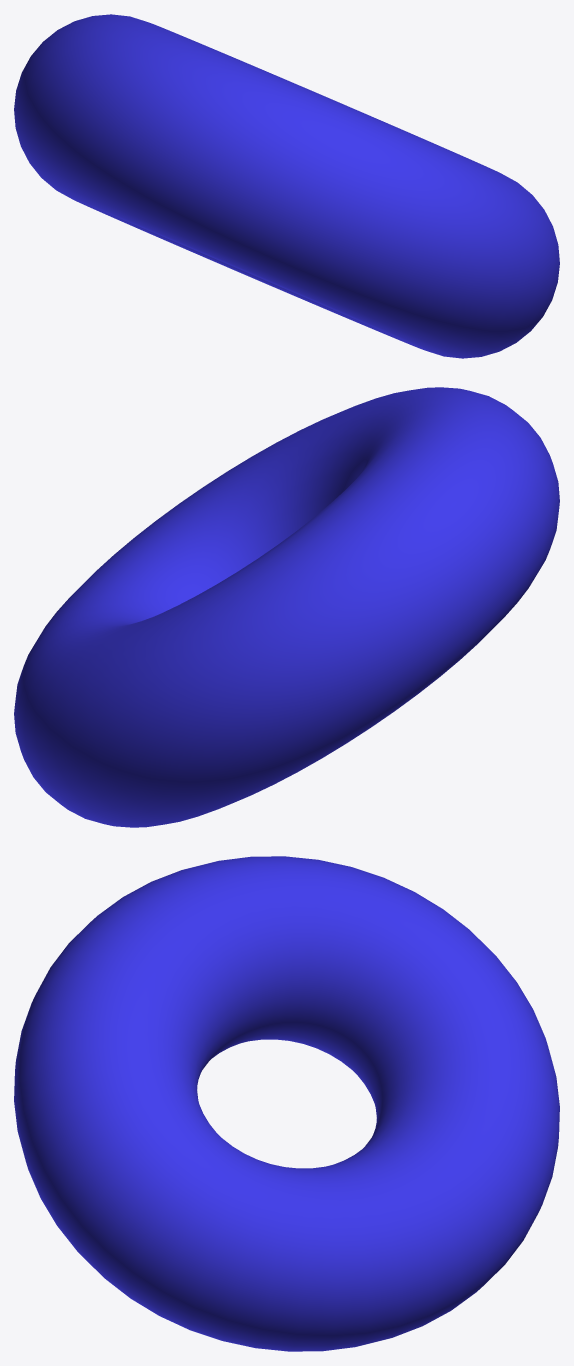
Rendered from donut.glb.
3 renders of one model, top to bottom at view 1: azimuth 30°, elevation 25°; view 2: azimuth 150°, elevation 25°; view 3: azimuth 270°, elevation 25°, orthographic. The views are drawn at different scales.
Visible parts, largest first — view 1: Torus; view 2: Torus; view 3: Torus.
Boxes of the visible parts, x1,y1,x2,y2 form: Torus: (14,14,559,358); Torus: (14,387,559,827); Torus: (14,856,559,1351).
Size of the model in its own units: 2.68 by 2.11 by 2.98.
